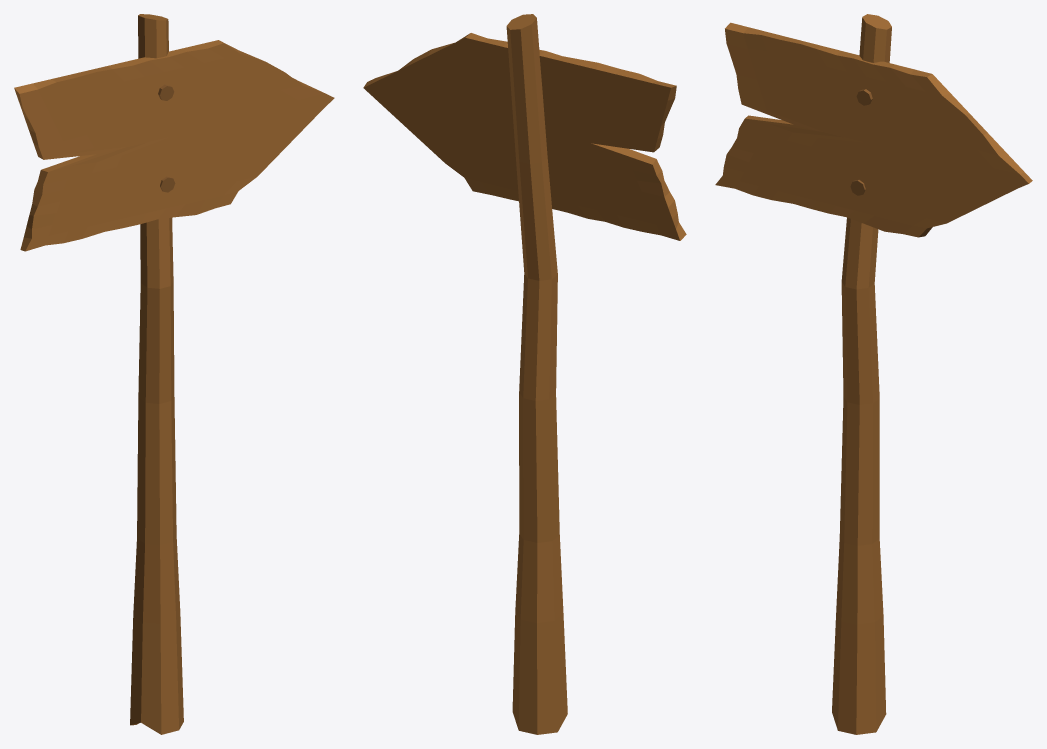
File: Petunjuk2.fbx
3 renders of one model, left to right at view 1: azimuth 30°, elevation 25°; view 2: azimuth 150°, elevation 25°; view 3: azimuth 330°, elevation 25°, orthographic.
Visible parts, largest first — view 1: Cube.199; view 2: Cube.199; view 3: Cube.199.
Part boxes in pixels (box(x1,y1,x2,y2)): Cube.199: box(14, 14, 334, 734); Cube.199: box(363, 14, 686, 734); Cube.199: box(715, 14, 1032, 734).
Bounding box in the file's own units: 175 × 377 × 30.23.
